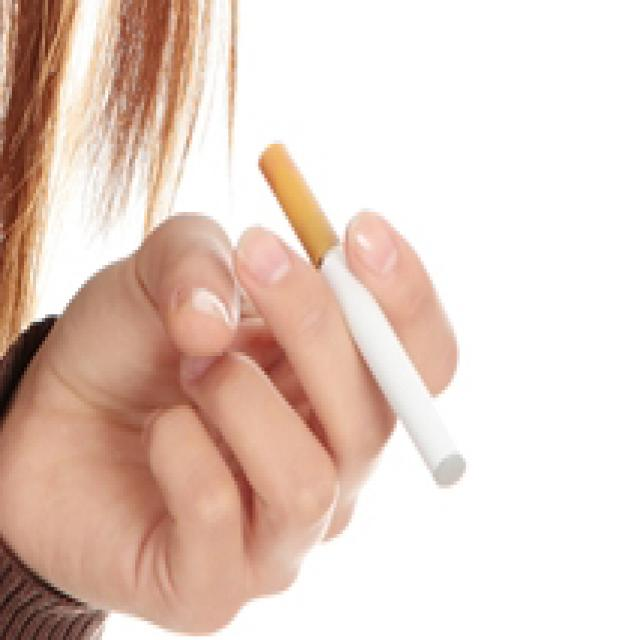smoking: (255, 140, 468, 491)
